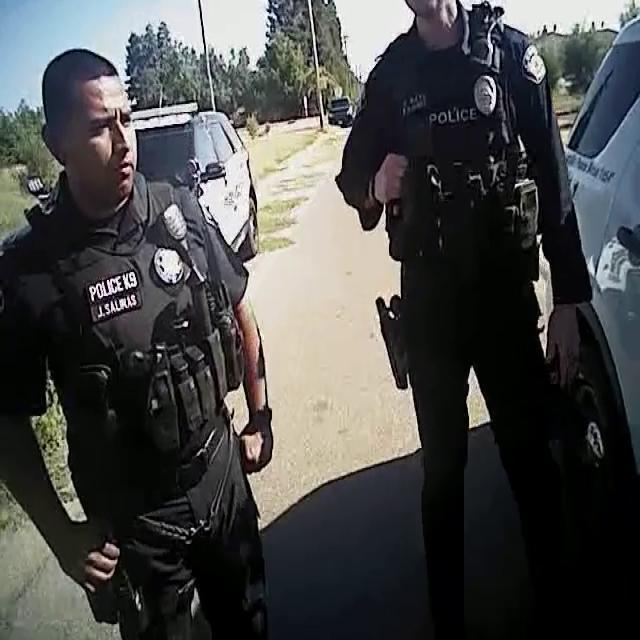gun: (366, 283, 414, 405)
